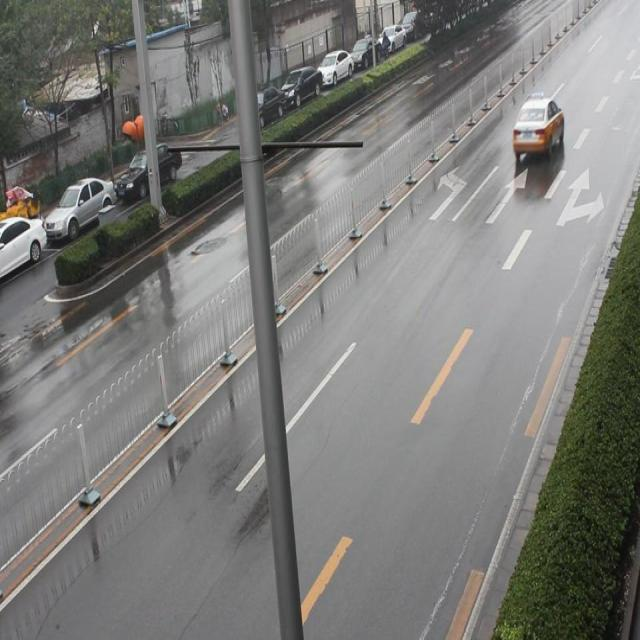car: (506, 90, 563, 164)
